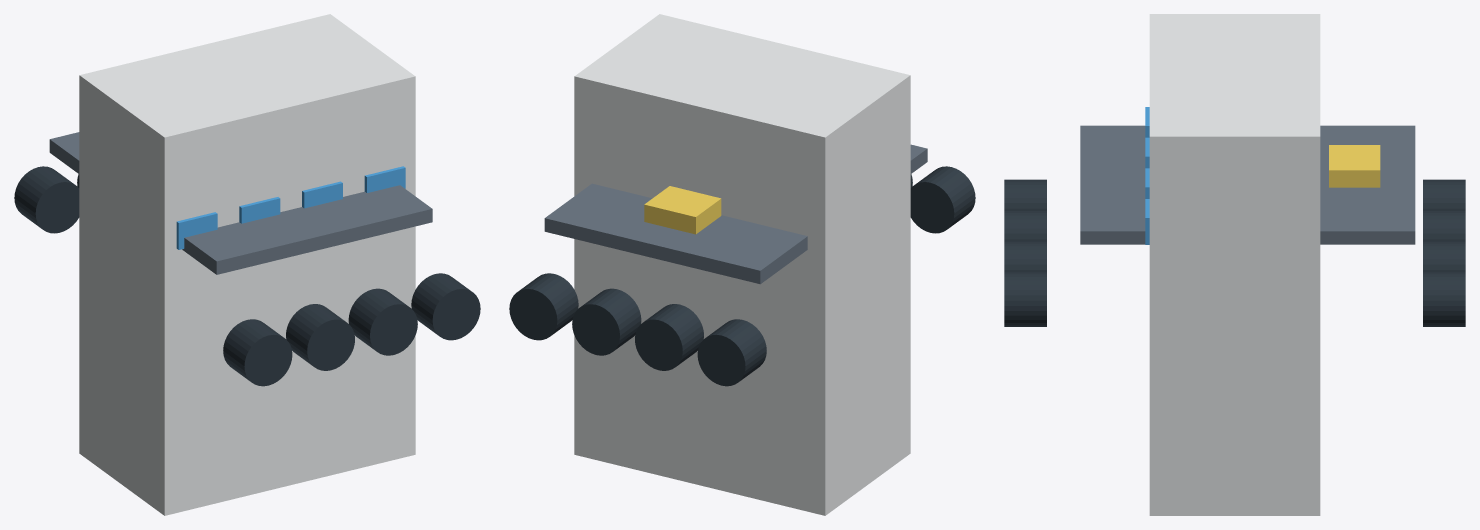
The model's file is rcd.glb.
3 views of the same model, side by side, from view 1: azimuth 30°, elevation 25°; view 2: azimuth 150°, elevation 25°; view 3: azimuth 270°, elevation 25° (orthographic).
Visible parts, largest first — view 1: rcd_0, rcd_1, rcd_3, rcd_12, rcd_9, rcd_6, rcd_4, rcd_5, rcd_14, rcd_8, rcd_11; view 2: rcd_0, rcd_1, rcd_4, rcd_13, rcd_10, rcd_7, rcd_3, rcd_15; view 3: rcd_0, rcd_1, rcd_12, rcd_13, rcd_15, rcd_3, rcd_4, rcd_6, rcd_7, rcd_9, rcd_10.
Boxes of the visible parts, left/top/right/bottom form: rcd_0: left=79, top=14, right=415, bottom=515; rcd_1: left=49, top=132, right=432, bottom=274; rcd_3: left=223, top=319, right=292, bottom=386; rcd_12: left=411, top=273, right=480, bottom=340; rcd_9: left=348, top=288, right=417, bottom=355; rcd_6: left=286, top=304, right=354, bottom=370; rcd_4: left=14, top=166, right=79, bottom=233; rcd_5: left=176, top=212, right=217, bottom=249; rcd_14: left=364, top=166, right=405, bottom=192; rcd_8: left=239, top=197, right=280, bottom=223; rcd_11: left=302, top=181, right=342, bottom=208; rcd_0: left=574, top=14, right=910, bottom=515; rcd_1: left=544, top=144, right=927, bottom=284; rcd_4: left=697, top=319, right=766, bottom=386; rcd_13: left=509, top=273, right=578, bottom=340; rcd_10: left=572, top=288, right=641, bottom=355; rcd_7: left=635, top=304, right=703, bottom=370; rcd_3: left=910, top=166, right=975, bottom=233; rcd_15: left=644, top=186, right=721, bottom=234; rcd_0: left=1149, top=14, right=1320, bottom=515; rcd_1: left=1080, top=125, right=1415, bottom=244; rcd_12: left=1004, top=271, right=1046, bottom=326; rcd_13: left=1423, top=271, right=1465, bottom=326; rcd_15: left=1329, top=145, right=1380, bottom=187; rcd_3: left=1004, top=179, right=1046, bottom=210; rcd_4: left=1423, top=179, right=1465, bottom=210; rcd_6: left=1004, top=210, right=1046, bottom=240; rcd_7: left=1423, top=210, right=1465, bottom=240; rcd_9: left=1004, top=241, right=1046, bottom=271; rcd_10: left=1423, top=241, right=1465, bottom=271.
Size of the model in its own units: 0.68 by 0.98 by 1.08.
